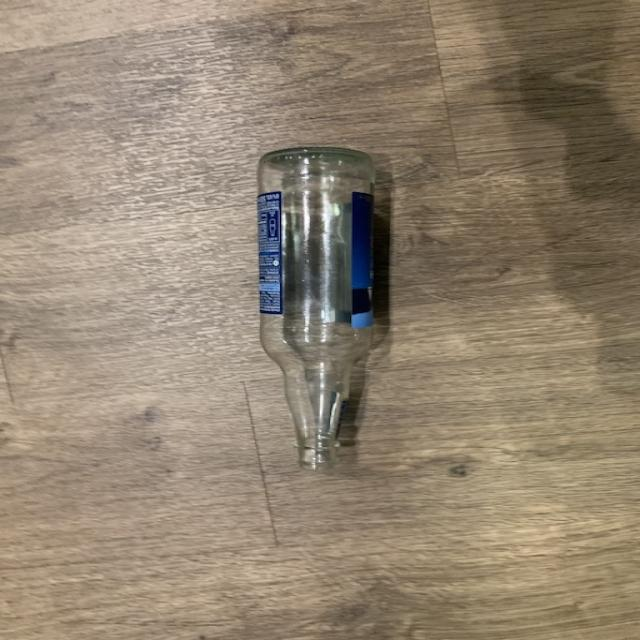litter: (250, 148, 381, 475)
